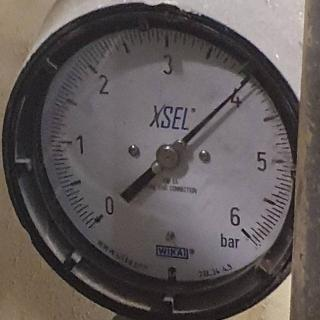gauge: (0, 0, 318, 319), (82, 191, 120, 237), (154, 143, 182, 171), (230, 216, 254, 244), (238, 72, 254, 88)
